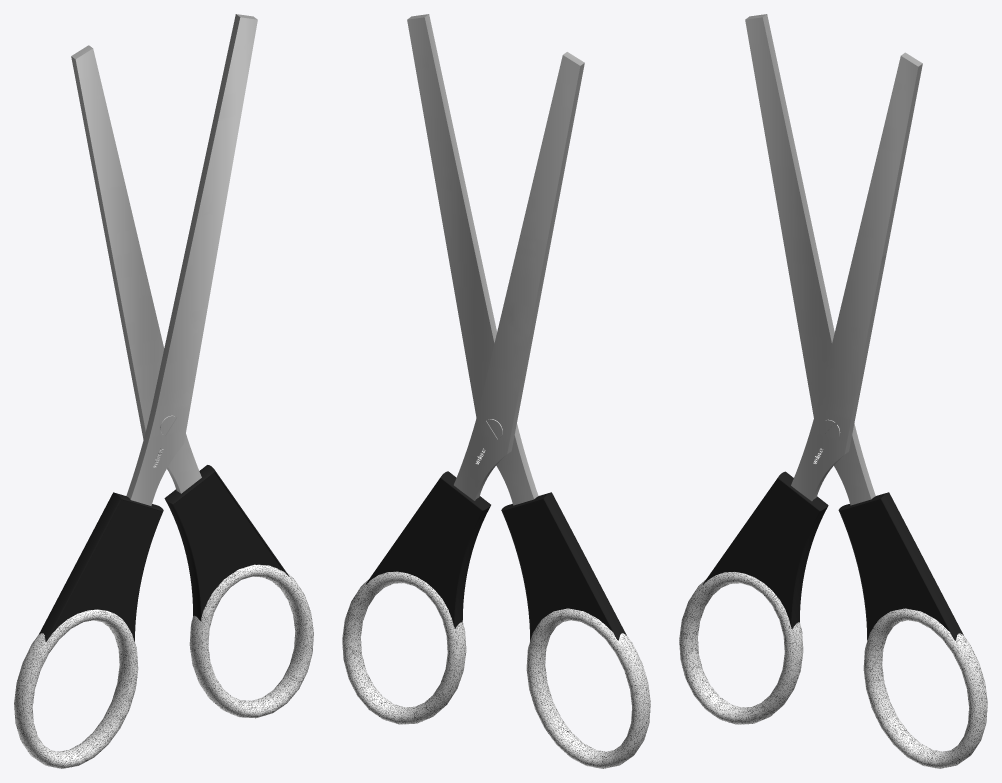
File: scissors_08_origin.dae
3 views of the same model, side by side, from view 1: azimuth 30°, elevation 25°; view 2: azimuth 150°, elevation 25°; view 3: azimuth 330°, elevation 25° (orthographic).
Visible parts, largest first — view 1: tijeras (×7); view 2: tijeras (×7); view 3: tijeras (×7).
Part boxes in pixels (x1,y1,x2,y2): tijeras (×7): (14, 14, 313, 768); tijeras (×7): (342, 14, 650, 768); tijeras (×7): (679, 14, 987, 768).
Size of the model in its own units: 3.05 by 0.2863 by 6.9.
Materials: 4 (2 with a texture image).
